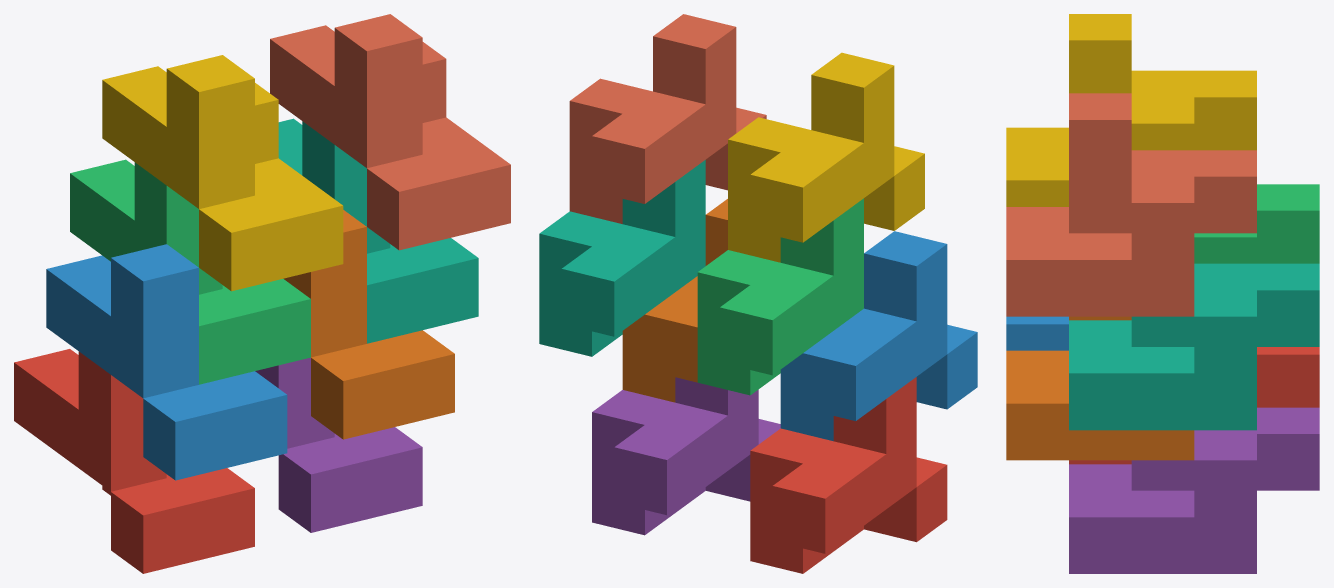
File: tiling.obj
3 views of the same model, side by side, from view 1: azimuth 30°, elevation 25°; view 2: azimuth 150°, elevation 25°; view 3: azimuth 270°, elevation 25° (orthographic). The views are drawn at different scales.
Visible parts, largest first — view 1: copy_1_domain_4, copy_1_domain_8, copy_1_domain_2, copy_1_domain_1, copy_1_domain_3, copy_1_domain_6, copy_1_domain_5, copy_1_domain_7; view 2: copy_1_domain_4, copy_1_domain_1, copy_1_domain_8, copy_1_domain_2, copy_1_domain_3, copy_1_domain_7, copy_1_domain_5, copy_1_domain_6; view 3: copy_1_domain_8, copy_1_domain_7, copy_1_domain_5, copy_1_domain_4, copy_1_domain_6, copy_1_domain_3, copy_1_domain_1, copy_1_domain_2.
Boxes of the visible parts, <box> form: copy_1_domain_4: <box>102,55,343,291</box>; copy_1_domain_8: <box>270,14,510,250</box>; copy_1_domain_2: <box>46,244,287,480</box>; copy_1_domain_1: <box>14,349,254,573</box>; copy_1_domain_3: <box>70,159,310,384</box>; copy_1_domain_6: <box>283,210,454,439</box>; copy_1_domain_5: <box>255,357,422,532</box>; copy_1_domain_7: <box>278,118,478,343</box>; copy_1_domain_4: <box>728,52,924,262</box>; copy_1_domain_1: <box>750,377,947,573</box>; copy_1_domain_8: <box>569,14,766,223</box>; copy_1_domain_2: <box>780,231,977,441</box>; copy_1_domain_3: <box>697,198,863,395</box>; copy_1_domain_7: <box>539,160,705,356</box>; copy_1_domain_5: <box>592,377,780,535</box>; copy_1_domain_6: <box>622,199,727,402</box>; copy_1_domain_8: <box>1006,93,1256,316</box>; copy_1_domain_7: <box>1069,263,1319,430</box>; copy_1_domain_5: <box>1069,407,1319,573</box>; copy_1_domain_4: <box>1006,14,1256,206</box>; copy_1_domain_6: <box>1006,316,1194,460</box>; copy_1_domain_3: <box>1194,184,1319,263</box>; copy_1_domain_1: <box>1069,347,1319,464</box>; copy_1_domain_2: <box>1006,316,1068,350</box>.
Size of the model in its own units: 6 by 8 by 5.
